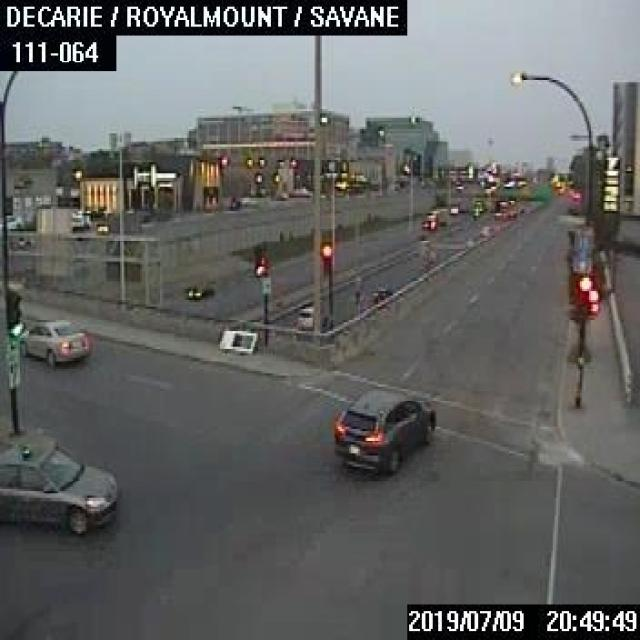vehicle: (0, 427, 120, 540), (328, 384, 437, 480), (22, 313, 89, 369), (183, 278, 214, 300), (420, 206, 446, 229), (295, 300, 312, 327), (372, 280, 392, 302)
